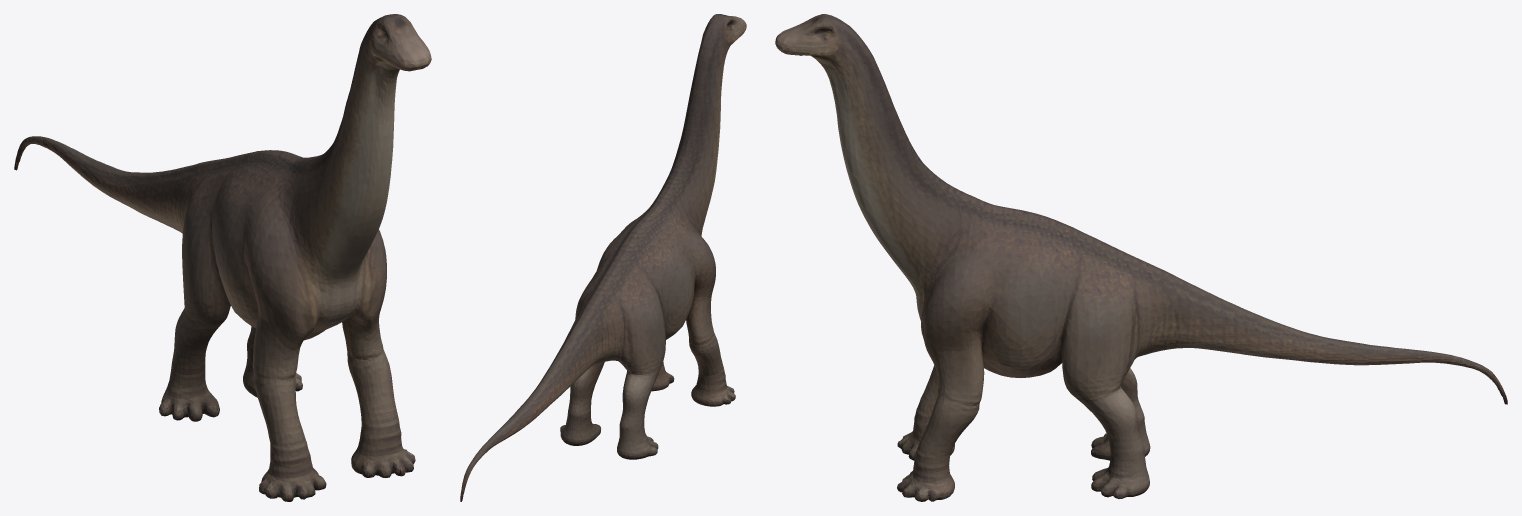
3 views of the same model, side by side, from view 1: azimuth 30°, elevation 25°; view 2: azimuth 150°, elevation 25°; view 3: azimuth 270°, elevation 25° (orthographic). The views are drawn at different scales.
Visible parts, largest first — view 1: world; view 2: world; view 3: world.
Part boxes in pixels (left/top/right/bottom): world: left=14, top=14, right=431, bottom=501; world: left=460, top=14, right=746, bottom=501; world: left=775, top=14, right=1507, bottom=501.
Size of the model in its own units: 0.2114 by 0.6845 by 0.9984.
Materials: 1 (1 with a texture image).
